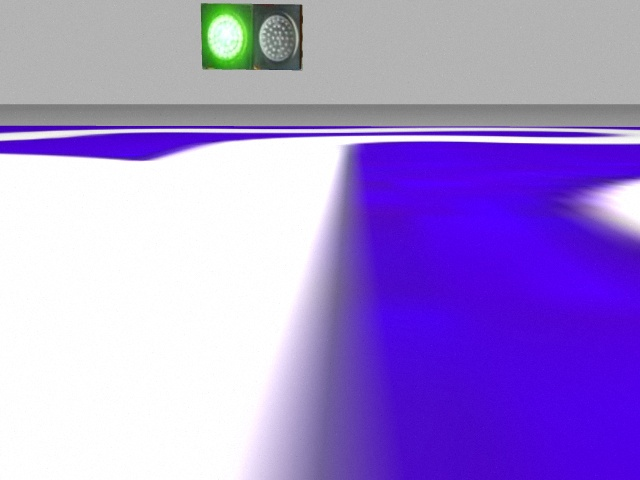green: (202, 2, 255, 71)
